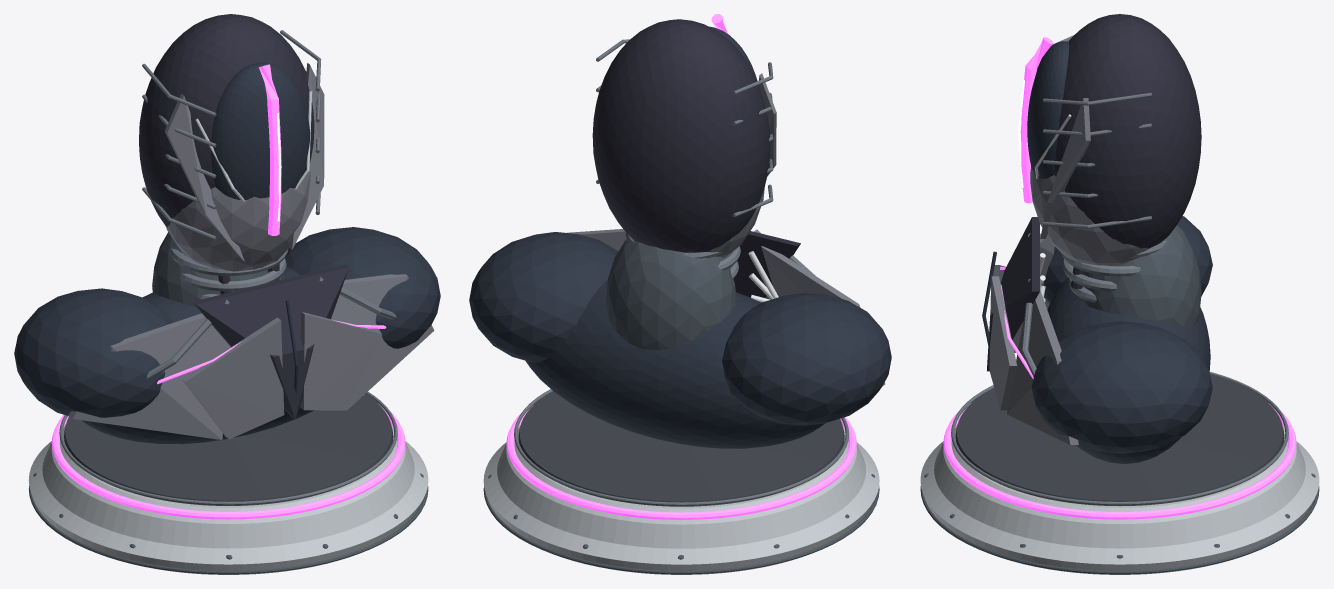
The model's file is null_entity_display.glb.
The picture shows the model from 3 angles, left to right: view 1: azimuth 30°, elevation 25°; view 2: azimuth 150°, elevation 25°; view 3: azimuth 270°, elevation 25°; orthographic projection.
Visible parts, largest first — view 1: TORSO_black, PODIUM_brushed_silver, TORSO_chrome, PODIUM_charcoal, HEAD_black_glass, HEAD_chrome, HEAD_black, TORSO_black_glass, PODIUM_violet, TORSO_gunmetal, TORSO_dark_steel, HEAD_gunmetal (+4 smaller); view 2: TORSO_black, HEAD_black_glass, PODIUM_brushed_silver, PODIUM_charcoal, TORSO_dark_steel, PODIUM_violet, TORSO_chrome, TORSO_black_glass, PODIUM_dark_steel, PODIUM_gunmetal, HEAD_chrome, HEAD_gunmetal (+2 smaller); view 3: HEAD_black_glass, PODIUM_brushed_silver, TORSO_black, PODIUM_charcoal, TORSO_dark_steel, TORSO_chrome, HEAD_chrome, PODIUM_violet, HEAD_black, TORSO_black_glass, TORSO_gunmetal, PODIUM_gunmetal (+3 smaller).
Part boxes in pixels (bbox=[...]): TORSO_black: bbox=[14, 227, 440, 444]; PODIUM_brushed_silver: bbox=[28, 424, 428, 574]; TORSO_chrome: bbox=[68, 274, 434, 439]; PODIUM_charcoal: bbox=[64, 394, 393, 505]; HEAD_black_glass: bbox=[139, 14, 314, 227]; HEAD_chrome: bbox=[164, 63, 324, 276]; HEAD_black: bbox=[211, 62, 309, 199]; TORSO_black_glass: bbox=[192, 263, 349, 419]; PODIUM_violet: bbox=[51, 403, 405, 519]; TORSO_gunmetal: bbox=[147, 248, 396, 379]; TORSO_dark_steel: bbox=[152, 232, 283, 306]; HEAD_gunmetal: bbox=[142, 30, 321, 240]; TORSO_black: bbox=[469, 232, 891, 448]; HEAD_black_glass: bbox=[592, 19, 770, 252]; PODIUM_brushed_silver: bbox=[483, 425, 879, 574]; PODIUM_charcoal: bbox=[518, 391, 844, 506]; TORSO_dark_steel: bbox=[605, 239, 736, 350]; PODIUM_violet: bbox=[506, 405, 856, 519]; TORSO_chrome: bbox=[567, 229, 885, 386]; TORSO_black_glass: bbox=[733, 231, 800, 297]; PODIUM_dark_steel: bbox=[483, 474, 879, 574]; PODIUM_gunmetal: bbox=[514, 389, 849, 505]; HEAD_chrome: bbox=[630, 73, 776, 257]; HEAD_gunmetal: bbox=[596, 39, 773, 217]; HEAD_black_glass: bbox=[1054, 14, 1201, 248]; PODIUM_brushed_silver: bbox=[920, 424, 1319, 574]; TORSO_black: bbox=[982, 216, 1212, 463]; PODIUM_charcoal: bbox=[955, 374, 1284, 506]; TORSO_dark_steel: bbox=[1081, 225, 1201, 326]; TORSO_chrome: bbox=[989, 233, 1078, 444]; HEAD_chrome: bbox=[1030, 98, 1163, 266]; PODIUM_violet: bbox=[943, 403, 1296, 519]; HEAD_black: bbox=[1027, 41, 1069, 178]; TORSO_black_glass: bbox=[987, 217, 1084, 371]; TORSO_gunmetal: bbox=[1021, 233, 1166, 377]; PODIUM_gunmetal: bbox=[951, 372, 1288, 505].
Size of the model in its own units: 2.04 by 2.32 by 1.76.
